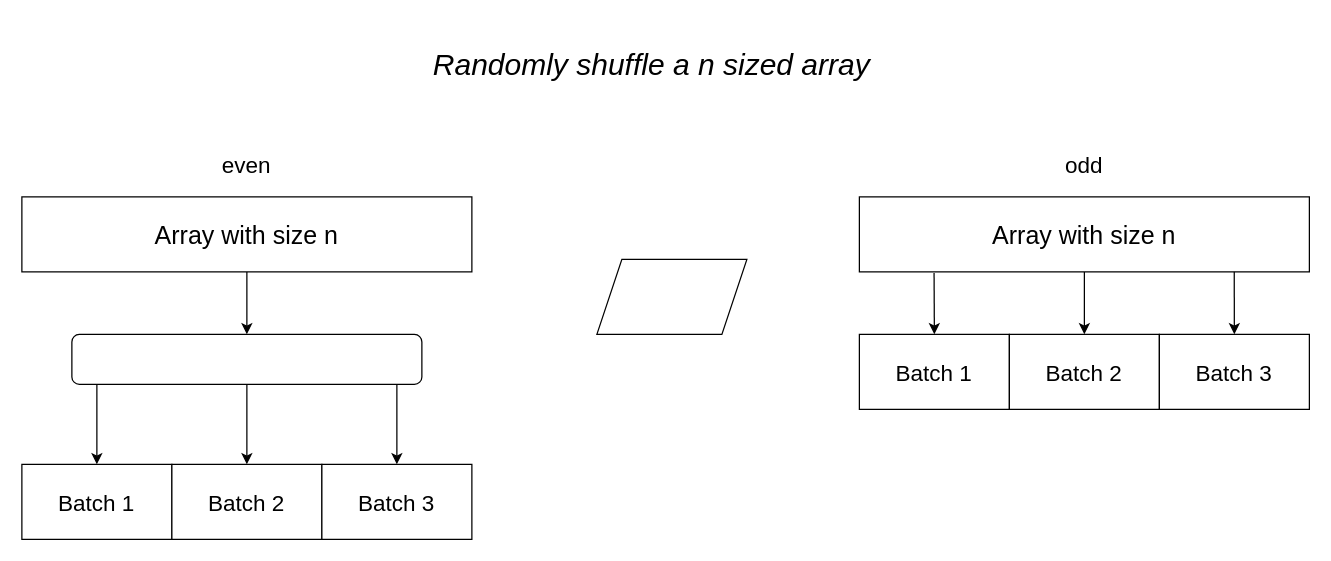
Image size: 1331x561. Some labels were removed from this diagram. Here are the shapes that lost their labels. From the top down, the centre of each, then its label:
At [671,296]: "Seed".
At [246,358]: "size = number of batches / n".
